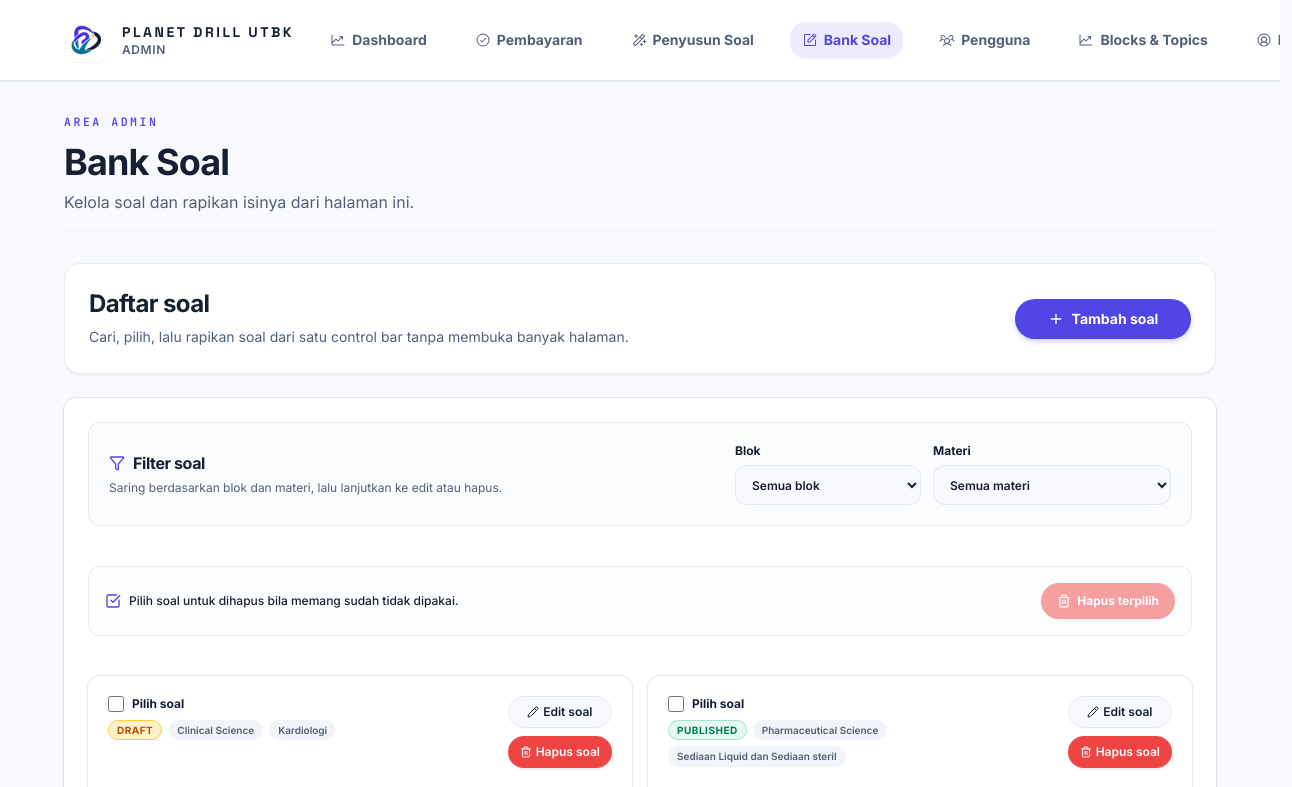
Test: Questions page › clears bulk selections that are no longer visible after changing filters
Step 1. Click the checkbox named "pilih soal pada evaluasi sediaan steril" → click(676, 704), box [668,696,684,712]
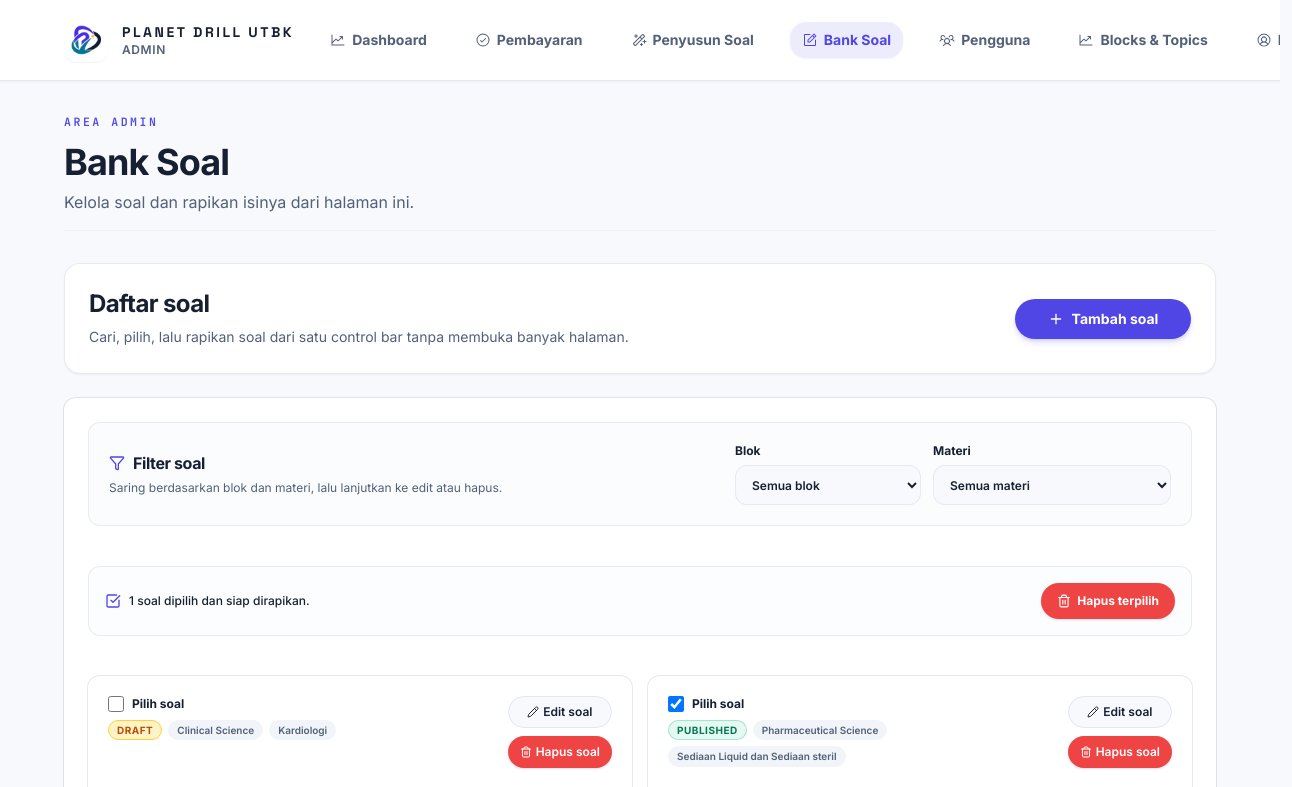
Check: the text "1 soal dipilih dan siap dirapikan." is shown, box [105,593,310,609]
Step 2. Select "Clinical Science" in the dropdown labelled "Blok" → (828, 485), box [735,465,921,505]
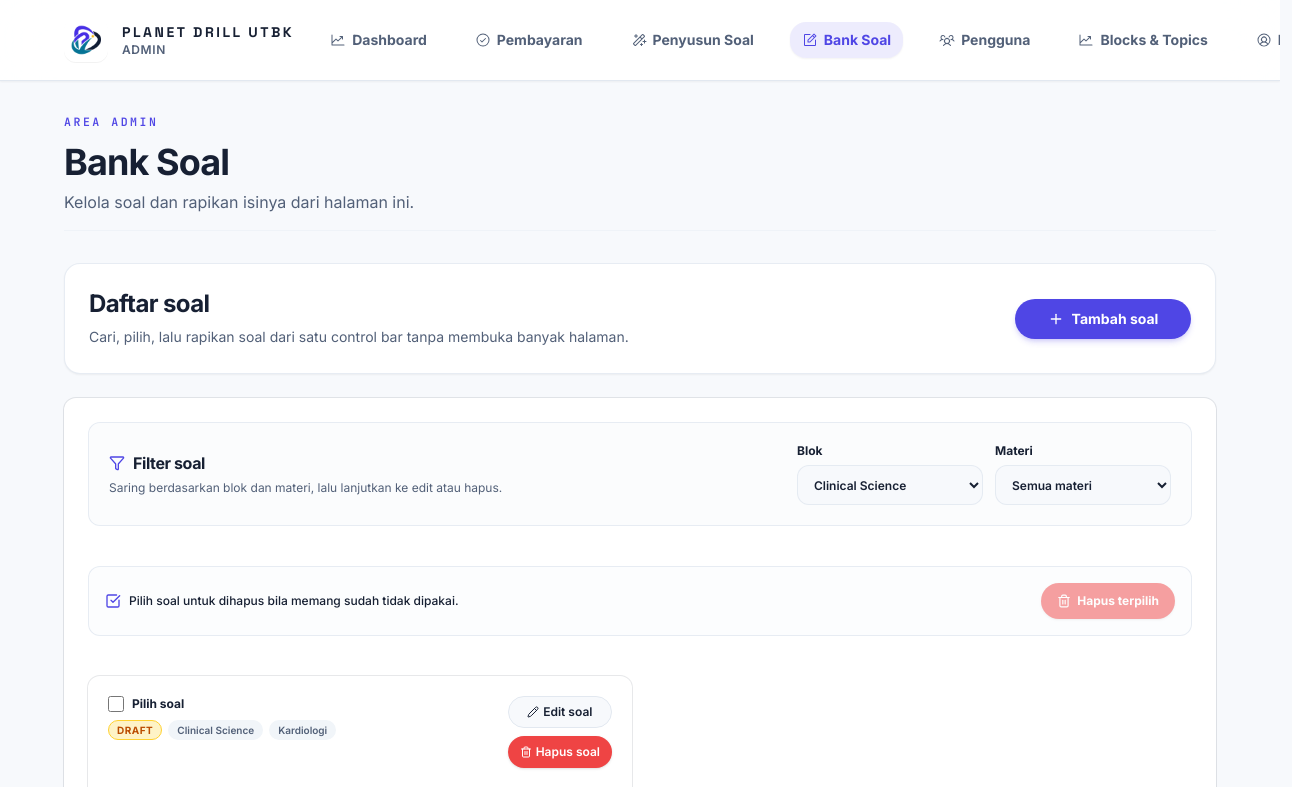
Check: the button "Hapus terpilih" is shown, box [1041,583,1175,619]
Check: the text "Pilih soal untuk dihapus bila memang sudah tidak dipakai." is shown, box [105,593,458,609]
Check: the button "Hapus terpilih" is disabled, box [1041,583,1175,619]
